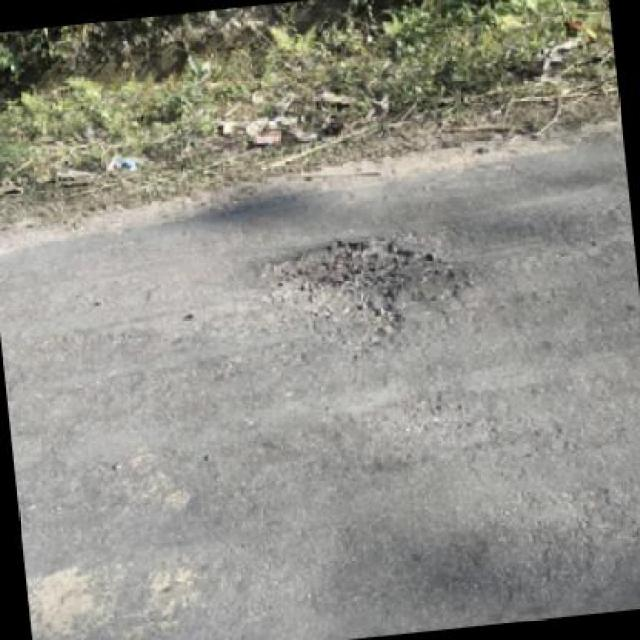pothole1: (246, 231, 434, 351)
